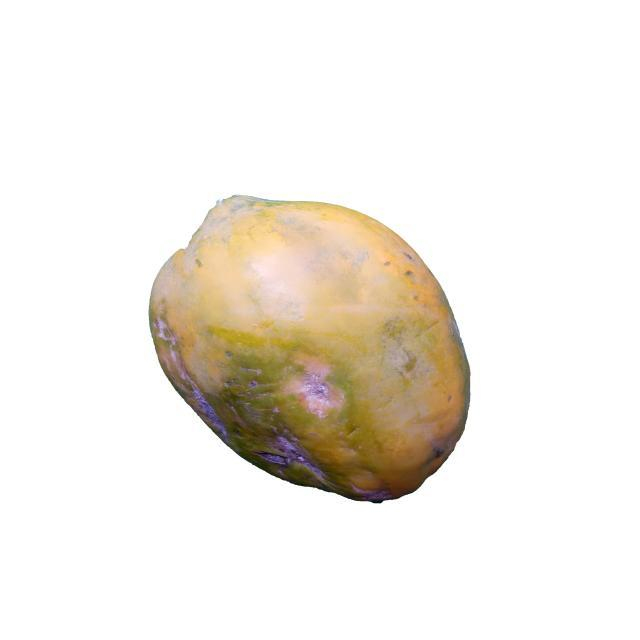Pepaya rippen: (147, 185, 479, 514)
